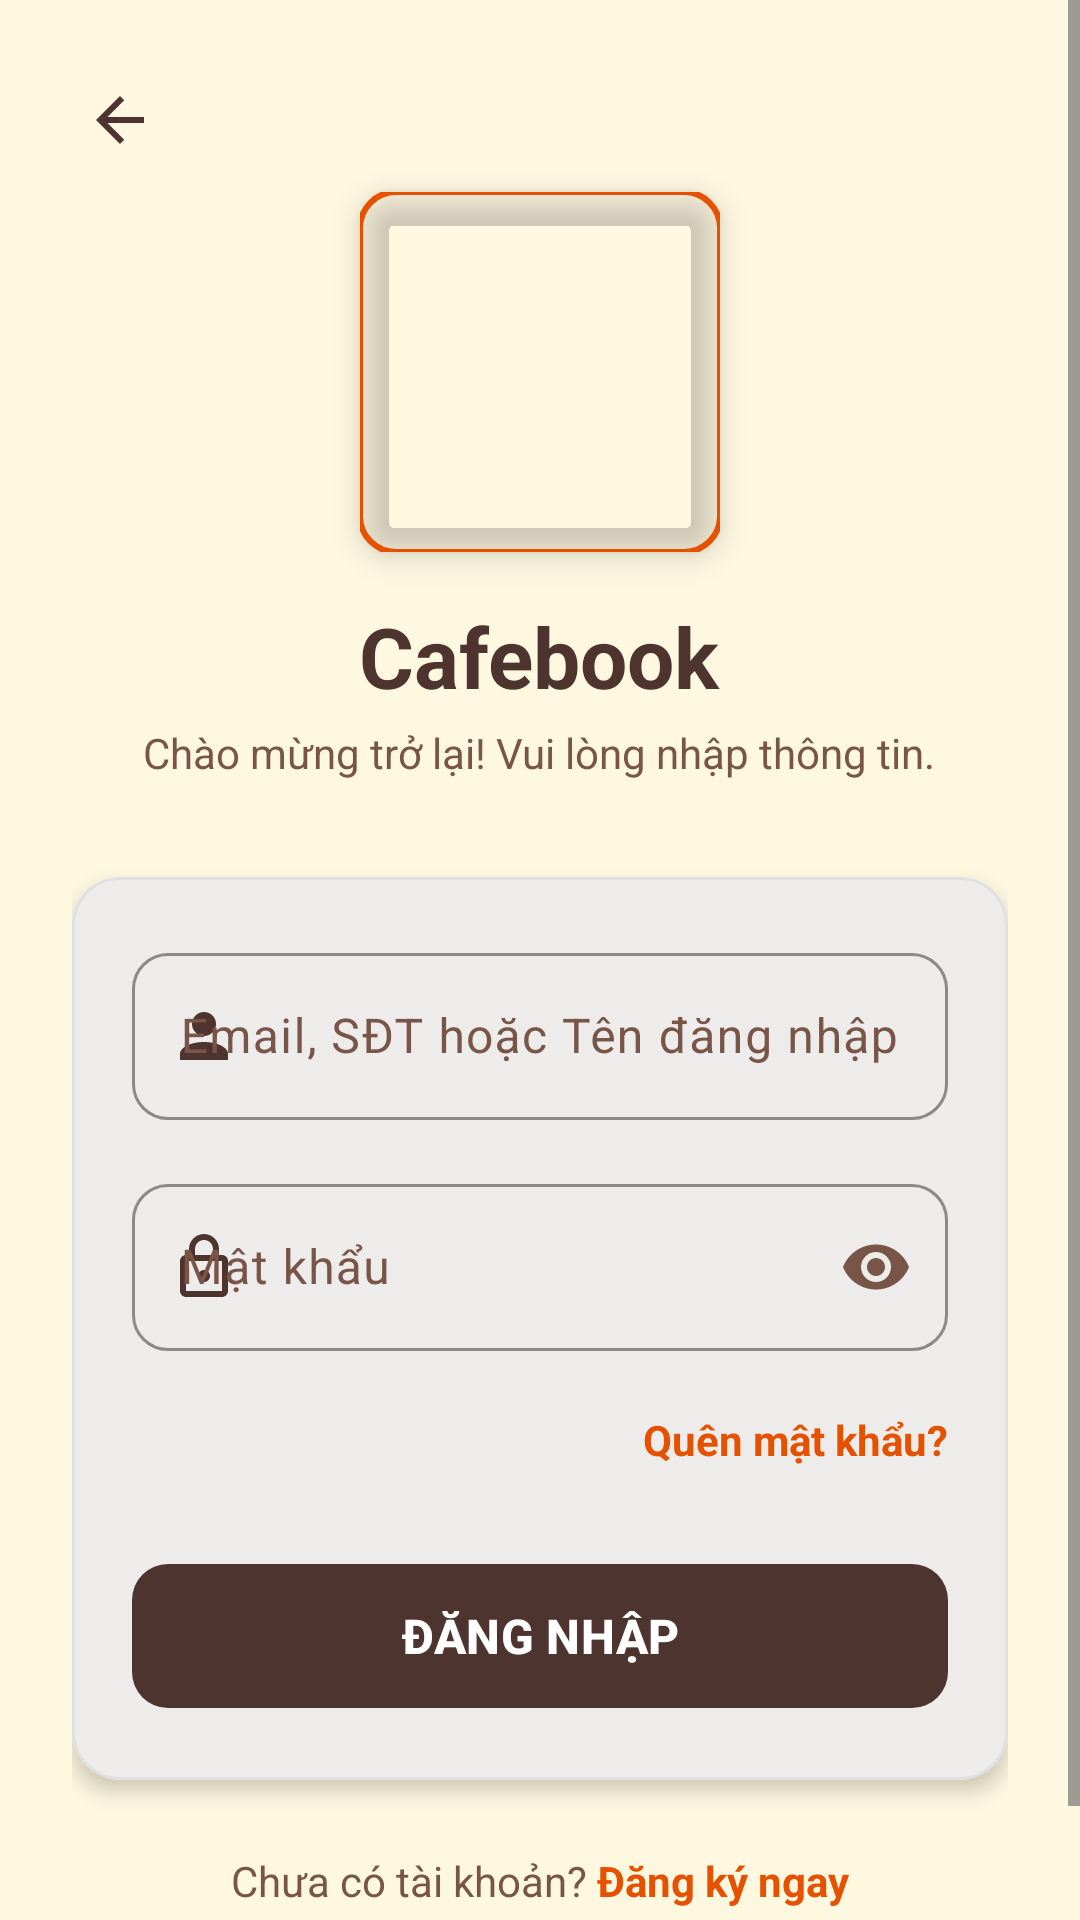

Named icons in this screenshot (1080px×1920px) and their centers, [x,y]:
Back to home: [120,120]
